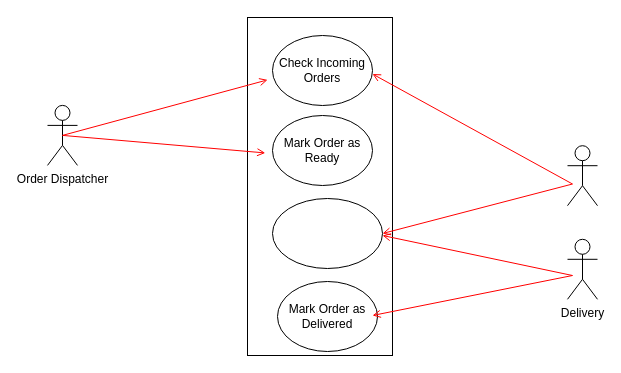
This 621x373 diagram has some shape labels left out. The shapes that lost their labels are listed below. From the top down, each one's box as (x1, y1, x2, y2) in pixels, then its label:
(566, 145, 598, 206): Admin
(272, 198, 382, 268): Check Outgoing Orders
